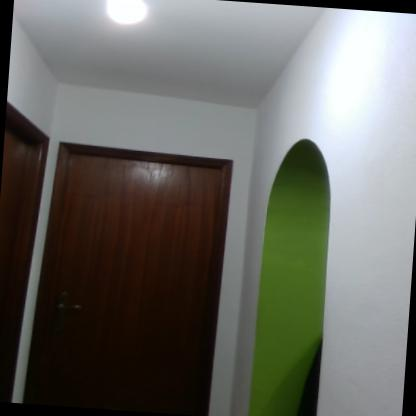closed: (20, 132, 245, 415), (0, 108, 51, 404)
